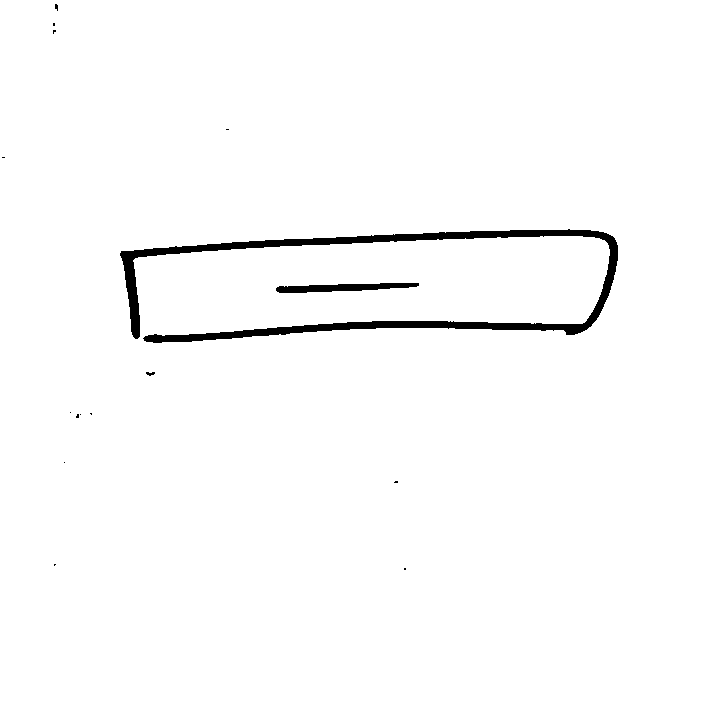button: (107, 224, 637, 352)
